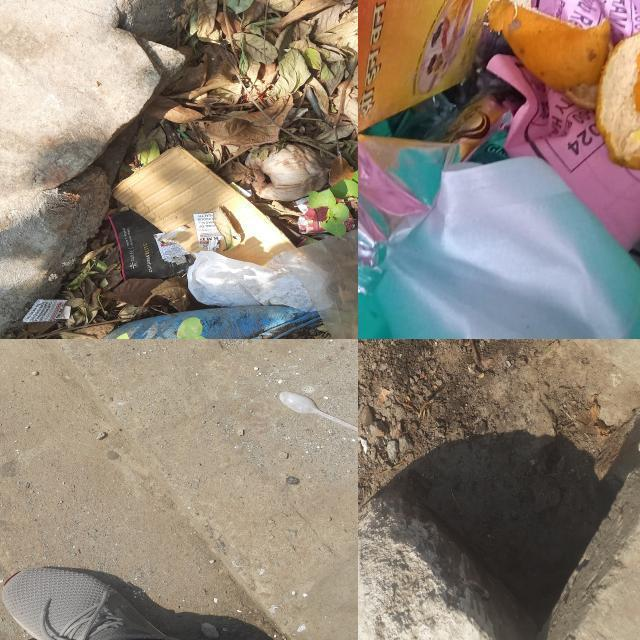Background: (0, 339, 358, 640), (358, 339, 640, 640)
Disposable: (280, 392, 358, 432)
Garbage: (16, 0, 358, 339), (358, 0, 640, 339)
Plastic: (376, 158, 640, 339), (358, 136, 459, 293)
Plastic_Bag: (268, 228, 358, 339), (186, 252, 317, 311), (304, 86, 323, 118)
Plastic_wraper: (294, 198, 327, 234), (155, 233, 189, 263), (197, 233, 222, 248), (344, 215, 357, 231), (336, 198, 346, 203)
